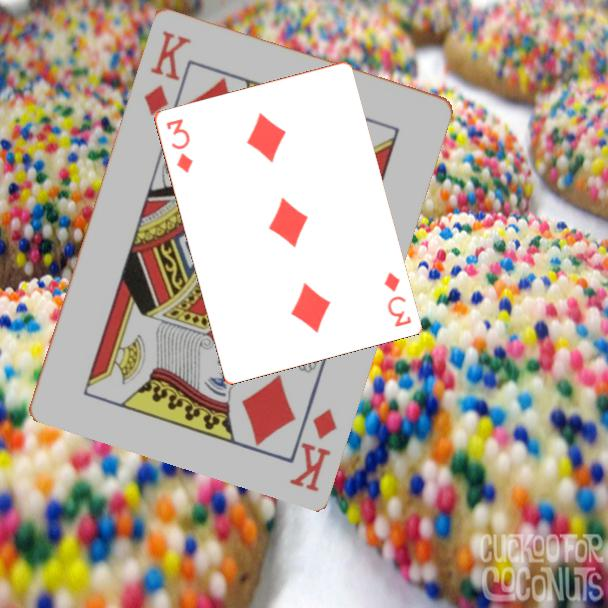d03: (380, 268, 414, 330), (162, 115, 195, 176)
d13: (285, 404, 340, 495), (140, 26, 194, 118)
